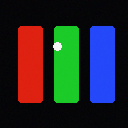0 point: (53, 42, 61, 50)
